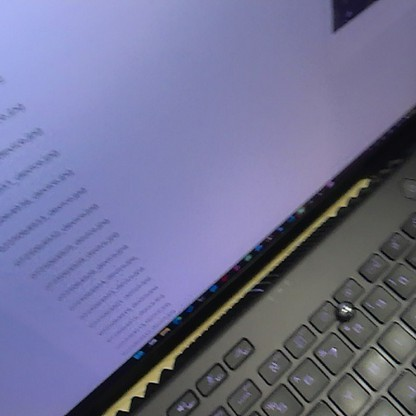ironball: (330, 296, 358, 323)
